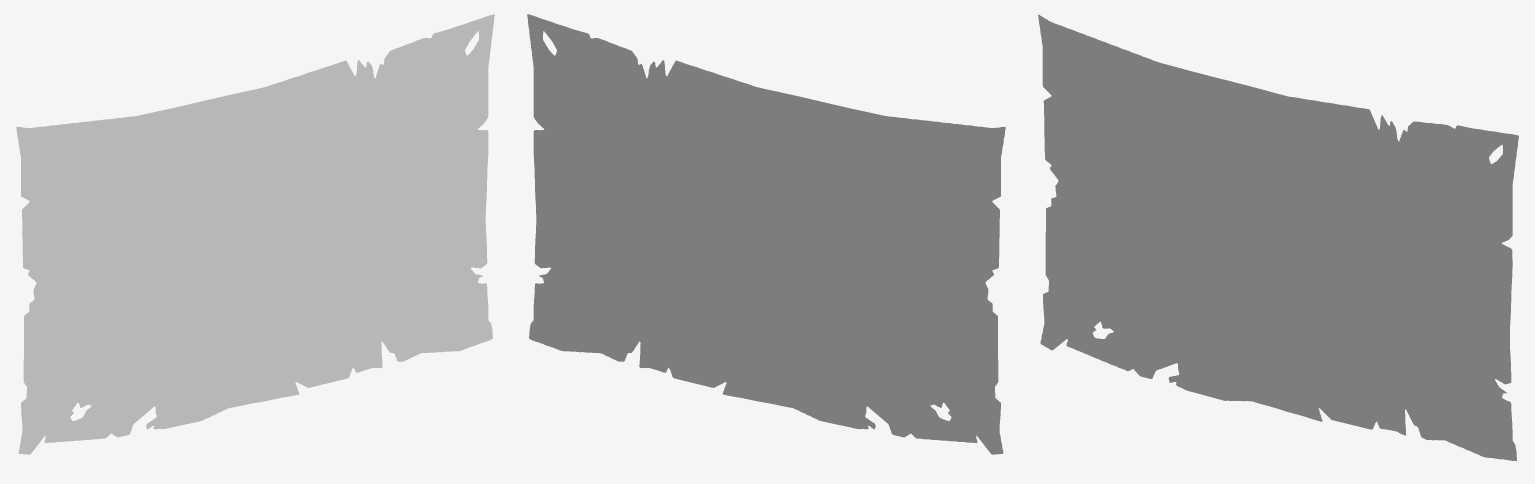
File: SM_Prop_Flag_02.fbx
The picture shows the model from 3 angles, left to right: view 1: azimuth 30°, elevation 25°; view 2: azimuth 150°, elevation 25°; view 3: azimuth 330°, elevation 25°; orthographic projection.
Visible parts, largest first — view 1: SM_Prop_Flag_02; view 2: SM_Prop_Flag_02; view 3: SM_Prop_Flag_02.
Boxes of the visible parts, left/top/right/bottom form: SM_Prop_Flag_02: left=16, top=14, right=494, bottom=454; SM_Prop_Flag_02: left=527, top=14, right=1005, bottom=454; SM_Prop_Flag_02: left=1038, top=14, right=1518, bottom=460.
Bounding box in the file's own units: 393 × 267 × 0.
